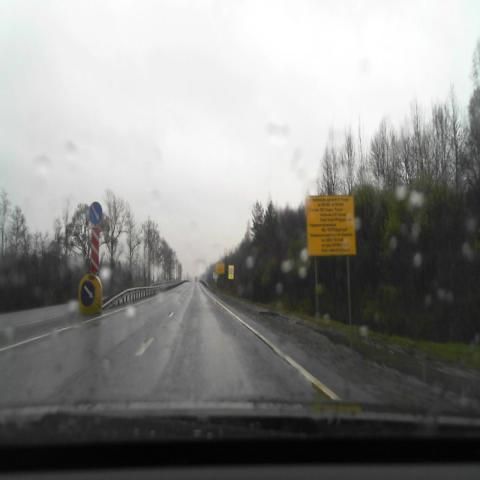4_2_1: (80, 281, 94, 306)
